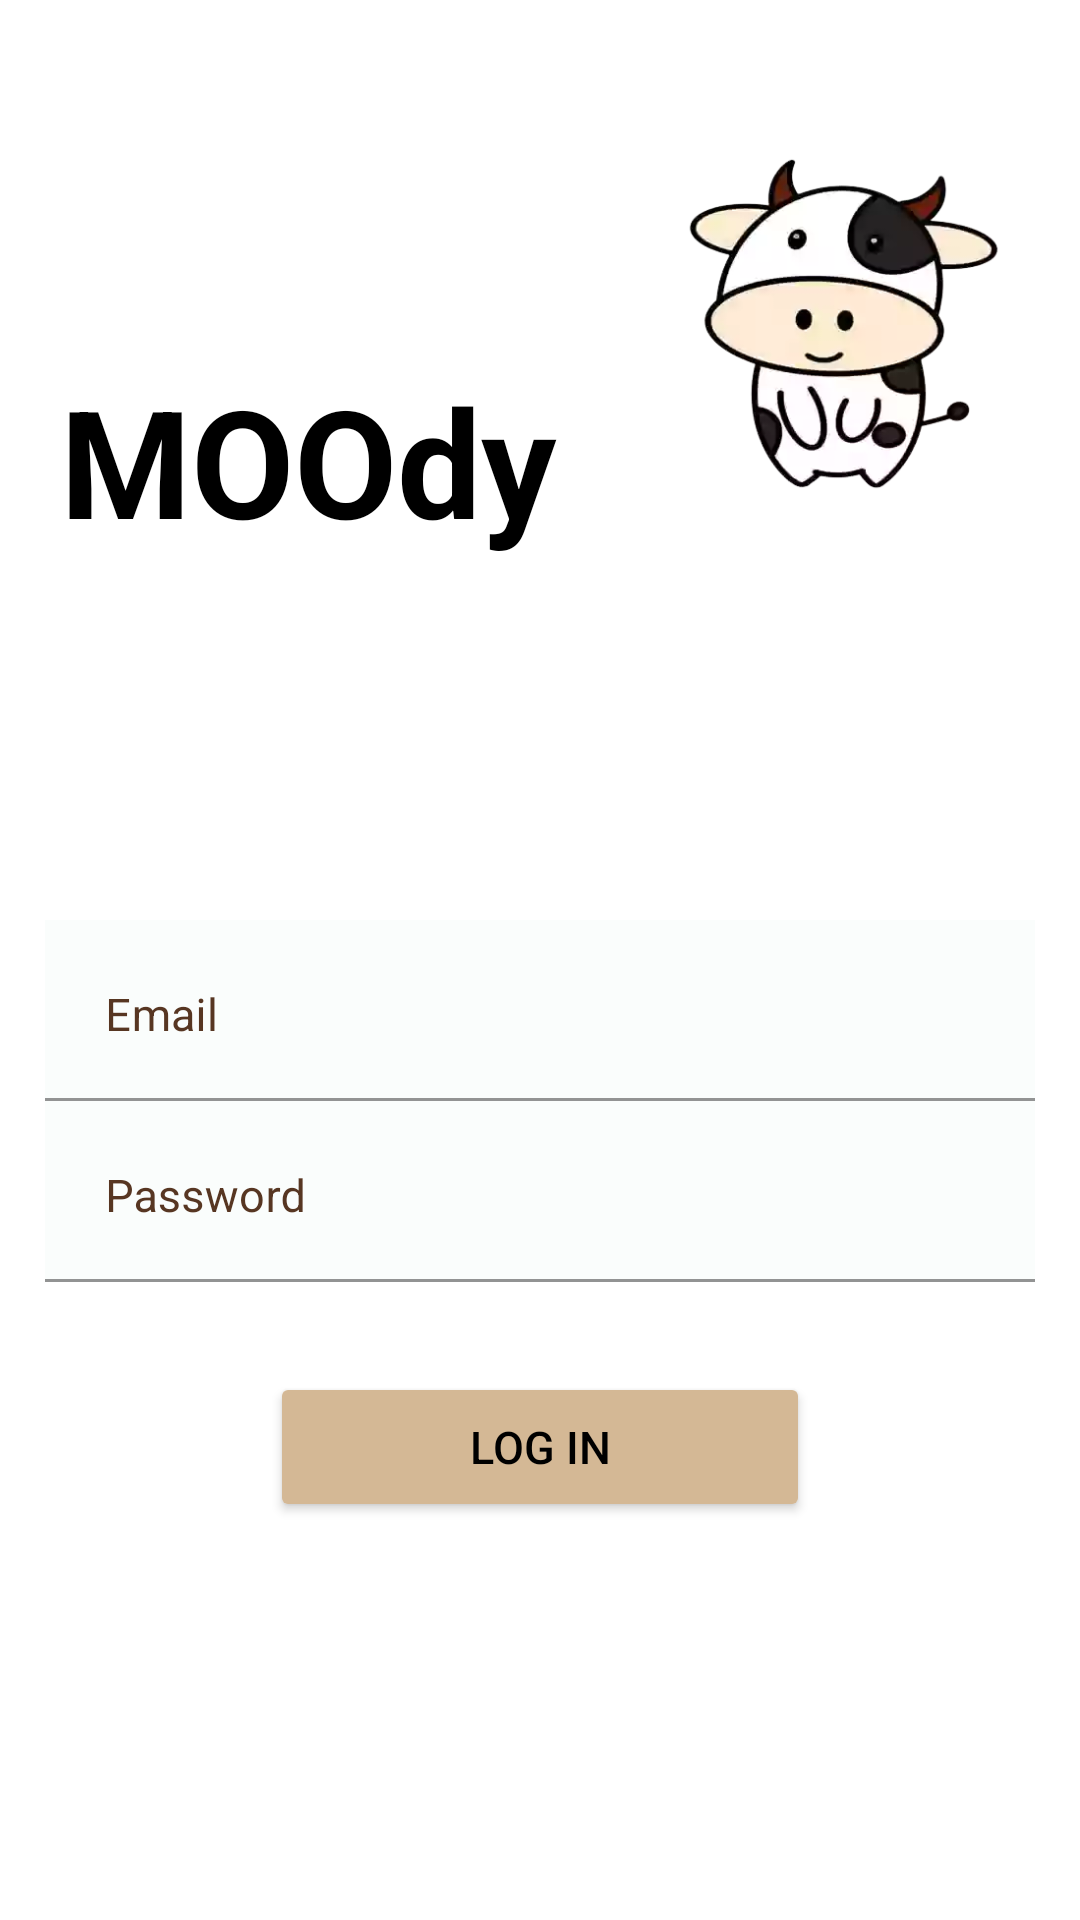

Icons on this 1080×1920 Android screen, each with the point to tap as [x,y]:
signup login cow: [843,323]
